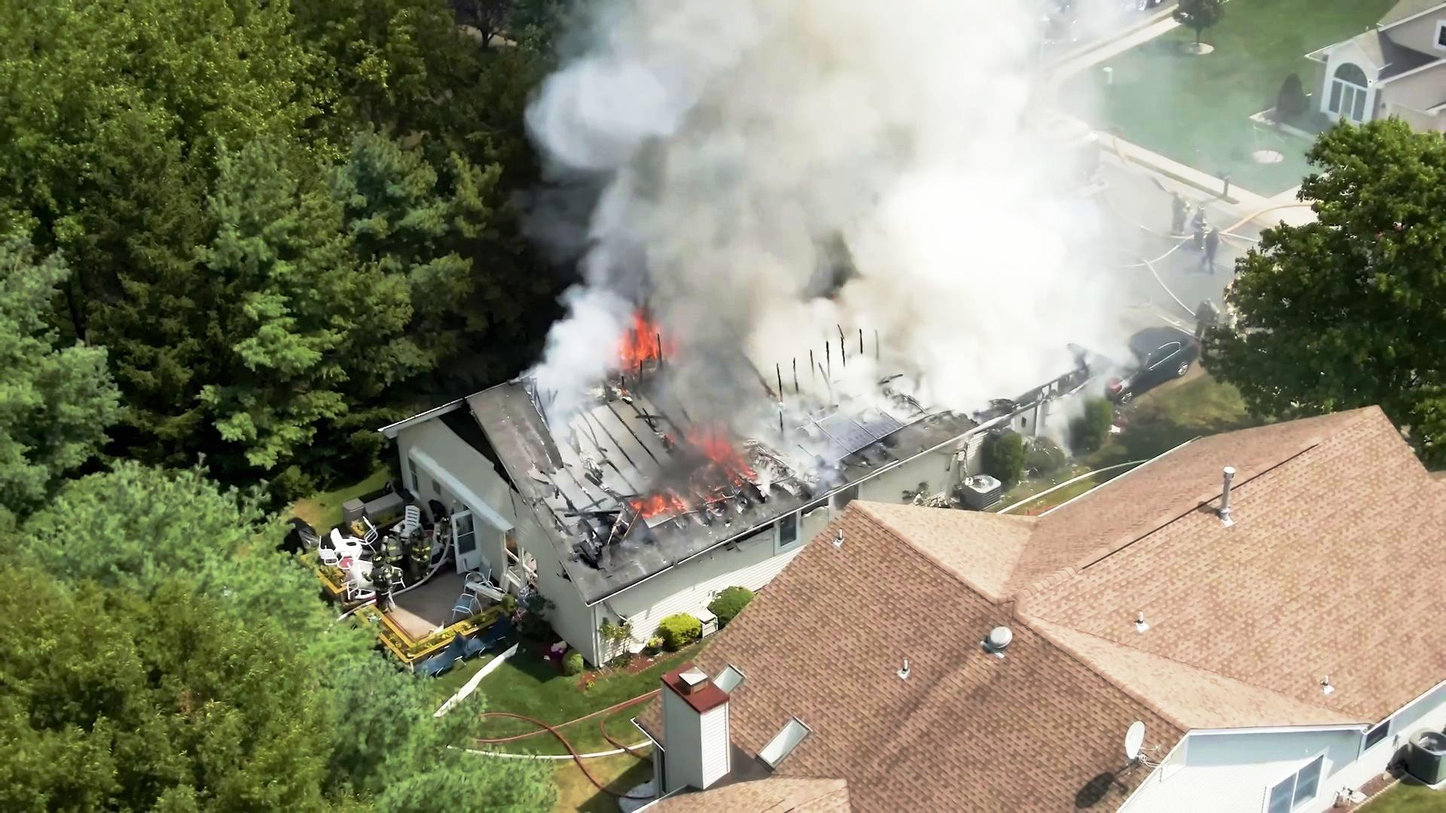smoke: (584, 2, 992, 229), (823, 168, 1090, 422), (697, 239, 828, 401)
